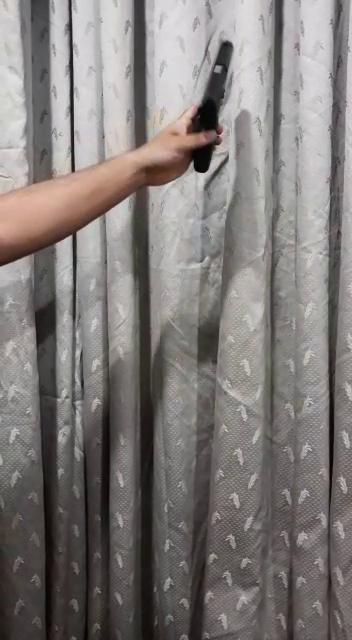weapon: (184, 37, 240, 175)
